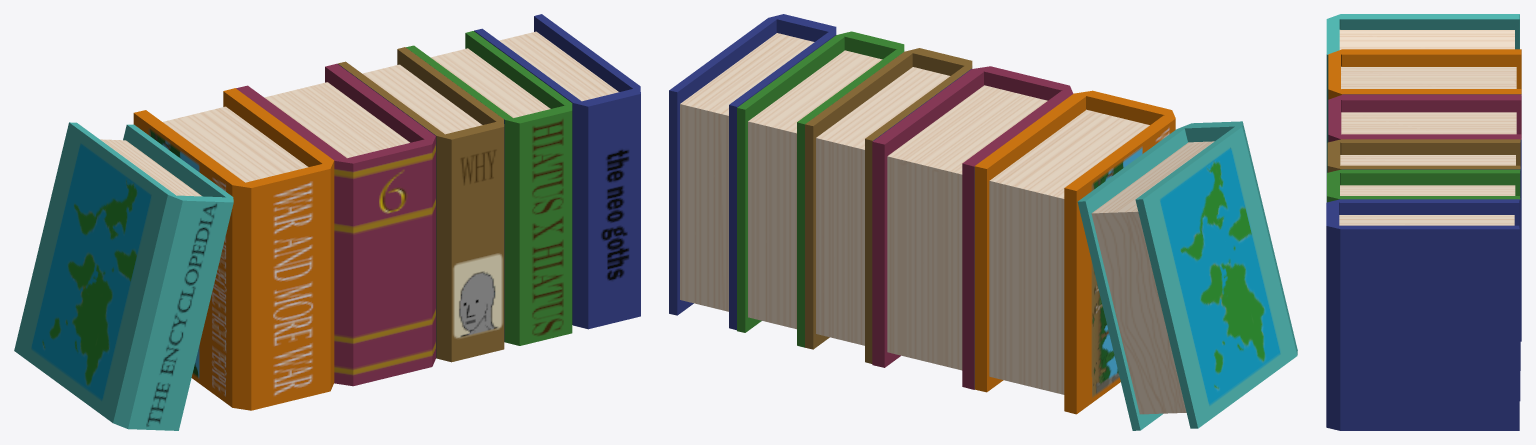
The model's file is boek model.fbx.
The picture shows the model from 3 angles, left to right: view 1: azimuth 30°, elevation 25°; view 2: azimuth 150°, elevation 25°; view 3: azimuth 270°, elevation 25°; orthographic projection. The views are drawn at different scales.
Visible parts, largest first — view 1: pCube13; view 2: pCube13; view 3: pCube13.
Part boxes in pixels (x1,y1,x2,y2): pCube13: (14, 14, 640, 430); pCube13: (669, 14, 1297, 430); pCube13: (1326, 14, 1521, 430).
Size of the model in its own units: 43.13 by 18.23 by 15.24.
Materials: 1 (1 with a texture image).
